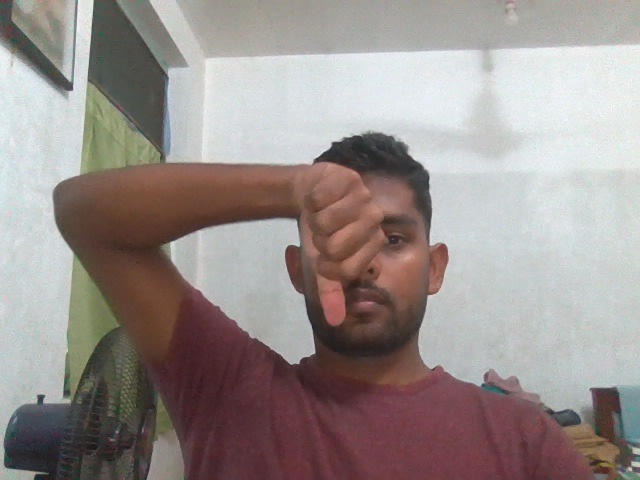dontlike: (272, 148, 391, 340)
